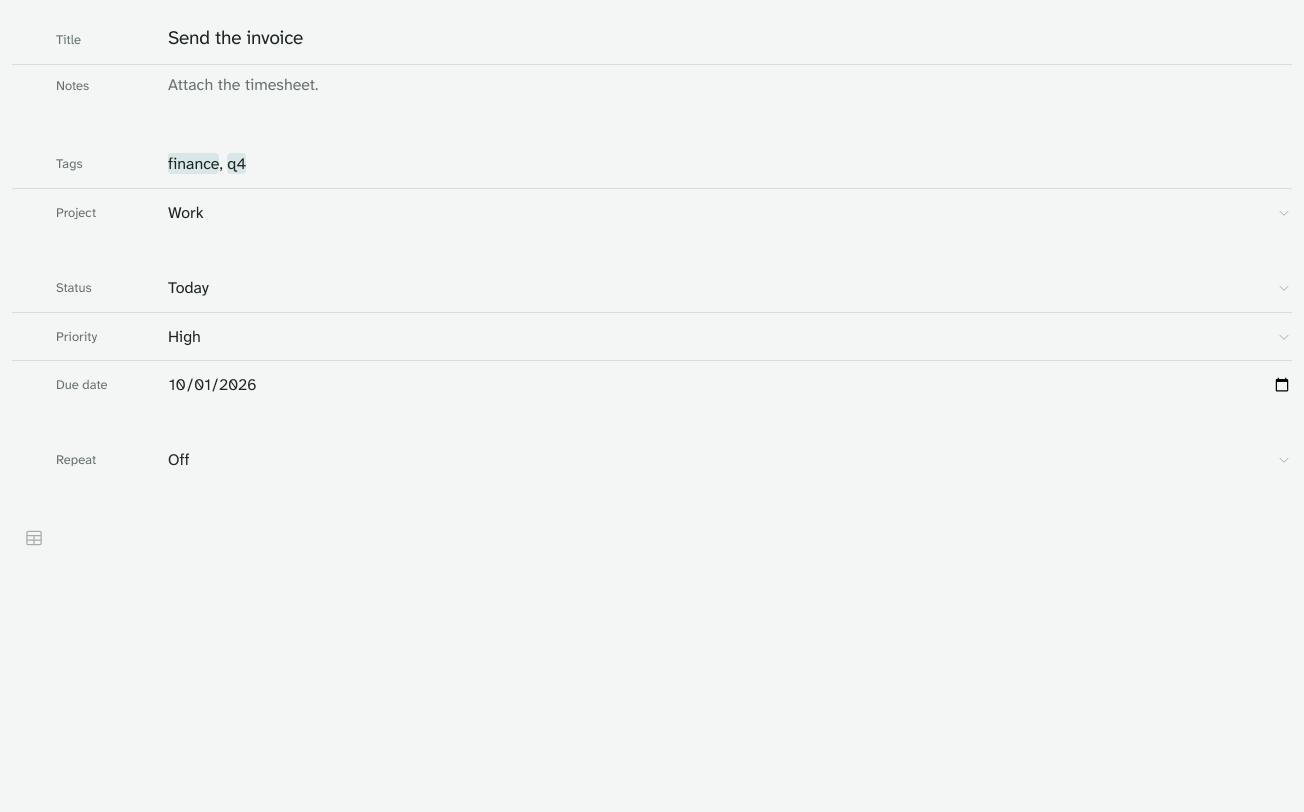
Test: TaskEditor › keeps Save off the page until something has actually changed
Expected: the button "Save" is not shown
Type "!" into the dropdown labelled "Title" at (730, 38), box [168, 24, 1292, 52]
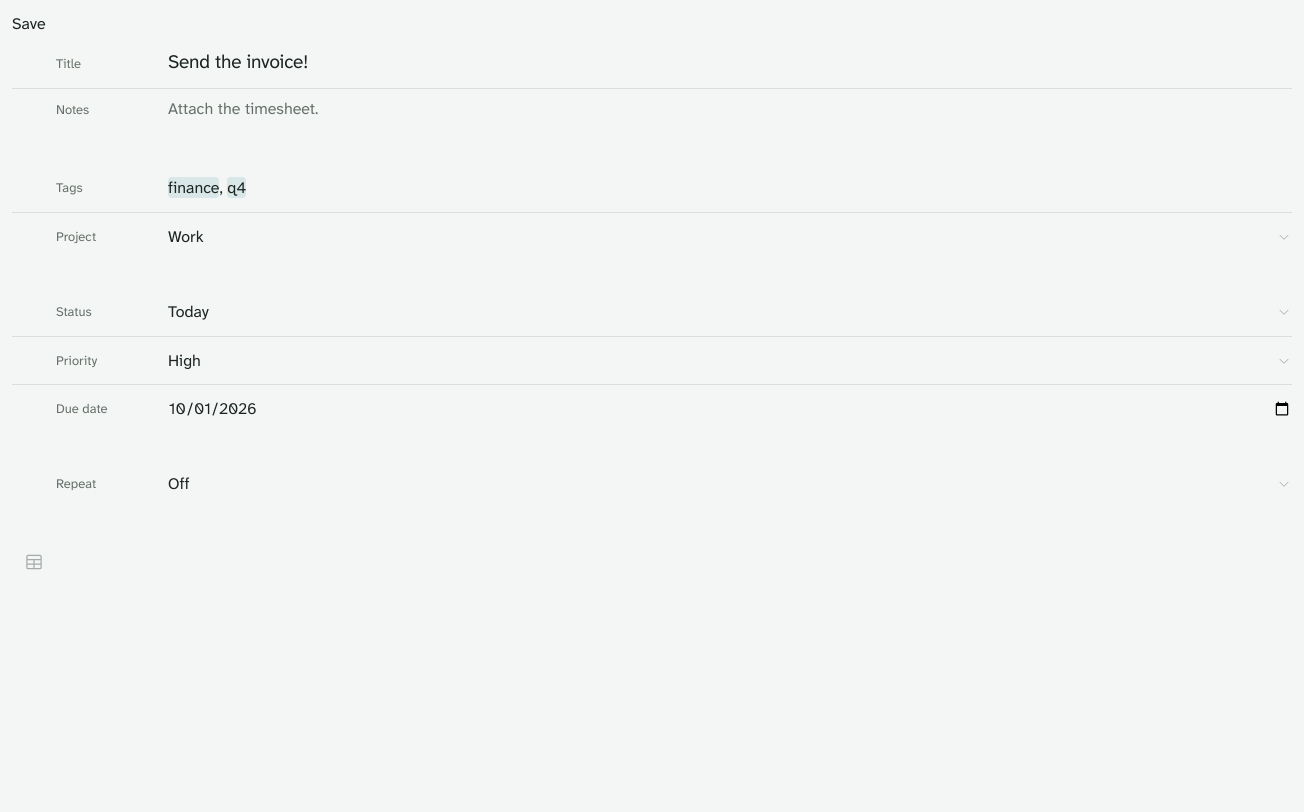
Now the button "Save" is shown, box [12, 12, 46, 36]
